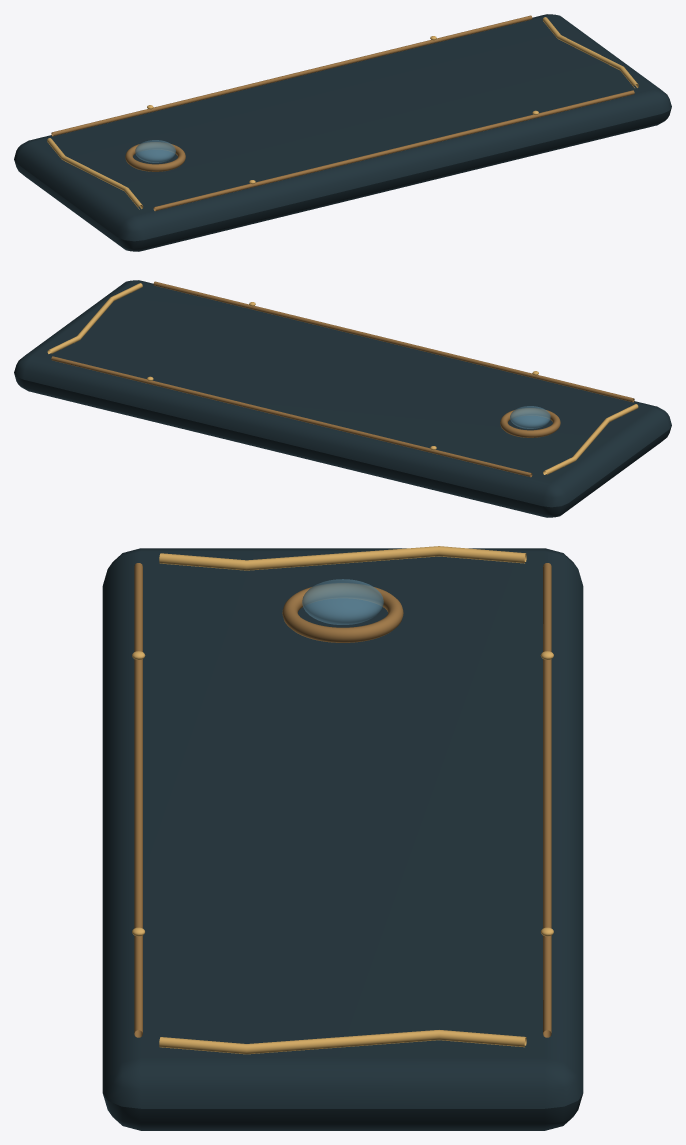
The model's file is hand-library-stone-v1.glb.
3 renders of one model, top to bottom at view 1: azimuth 30°, elevation 25°; view 2: azimuth 150°, elevation 25°; view 3: azimuth 270°, elevation 25°, orthographic. The views are drawn at different scales.
Visible parts, largest first — view 1: LibraryRunestone, InlaidRail, InlaidRail.001, GemBezel, SourceGem, EndChase, EndChase.001; view 2: LibraryRunestone, InlaidRail, InlaidRail.001, GemBezel, SourceGem, EndChase.001, EndChase; view 3: LibraryRunestone, InlaidRail, InlaidRail.001, EndChase, EndChase.001, GemBezel, SourceGem.
Part boxes in pixels (x1,y1,x2,y2): LibraryRunestone: [14, 14, 671, 251]; InlaidRail: [153, 90, 634, 211]; InlaidRail.001: [51, 15, 532, 136]; GemBezel: [125, 142, 185, 171]; SourceGem: [135, 140, 175, 162]; EndChase: [47, 138, 143, 209]; EndChase.001: [542, 17, 638, 87]; LibraryRunestone: [14, 280, 671, 517]; InlaidRail: [153, 281, 634, 402]; InlaidRail.001: [51, 356, 532, 477]; GemBezel: [500, 408, 560, 437]; SourceGem: [510, 406, 550, 428]; EndChase.001: [47, 283, 142, 353]; EndChase: [543, 404, 638, 474]; LibraryRunestone: [102, 548, 583, 1130]; InlaidRail: [134, 563, 142, 1037]; InlaidRail.001: [543, 563, 551, 1037]; EndChase: [159, 546, 526, 570]; EndChase.001: [159, 1030, 526, 1054]; GemBezel: [282, 583, 403, 642]; SourceGem: [302, 579, 383, 624].
Bounding box in the file's own units: 2.65 × 0.24 × 1.
